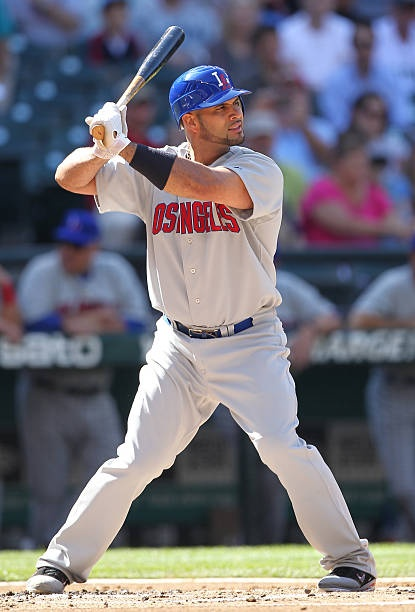bita: (101, 20, 189, 132)
